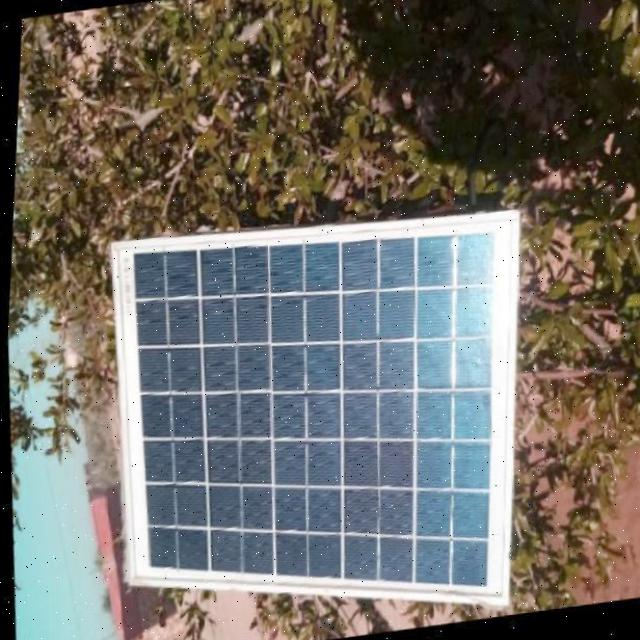Normal Solar Panel: (95, 192, 537, 640)
